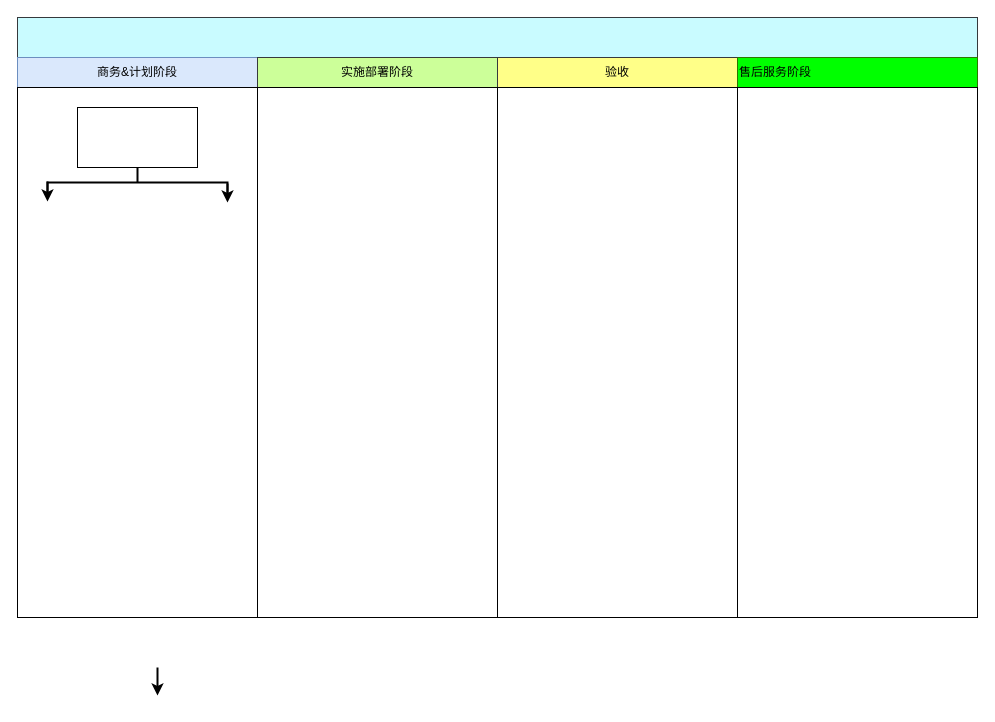
Some shapes in this 995 by 722 pixel diagram are drawn without their labels. Here are the shapes that lost their labels. From the top down, the centre of each, then its label:
At (497,37): "软件项目执行流程".
At (137,137): "销售线索收集 初步客户意向沟通 （销售团队）".
